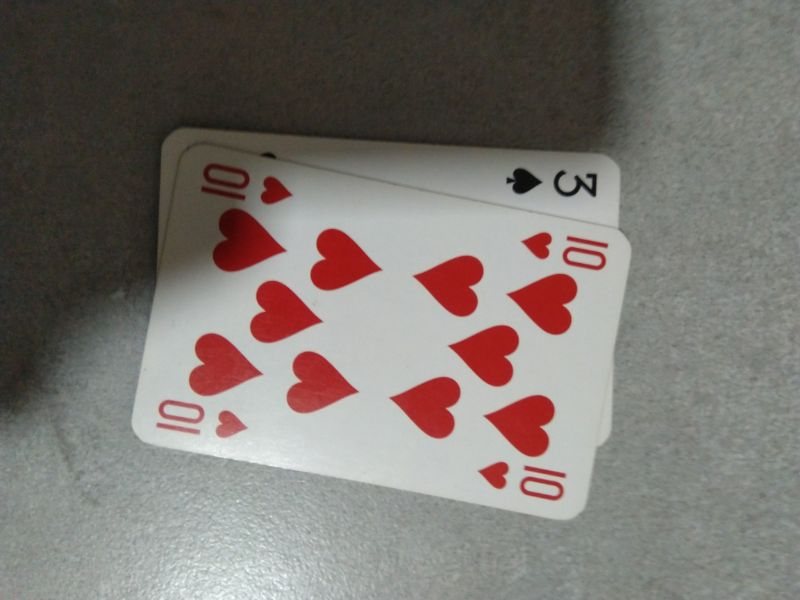3s: (503, 163, 603, 201)
Th: (198, 157, 296, 209), (153, 393, 251, 444), (474, 453, 569, 503), (517, 225, 612, 273)
